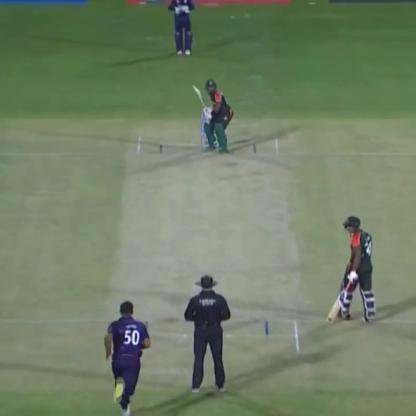pitch: (117, 132, 307, 360)
